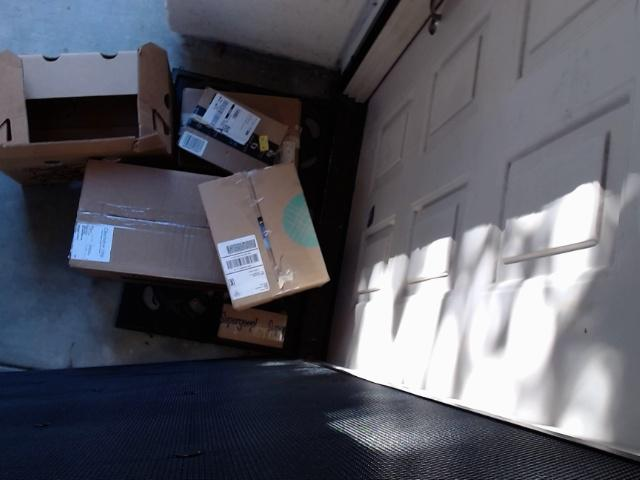box: (63, 139, 250, 314), (184, 164, 358, 298), (2, 33, 182, 158), (190, 70, 326, 179), (214, 308, 330, 349)
